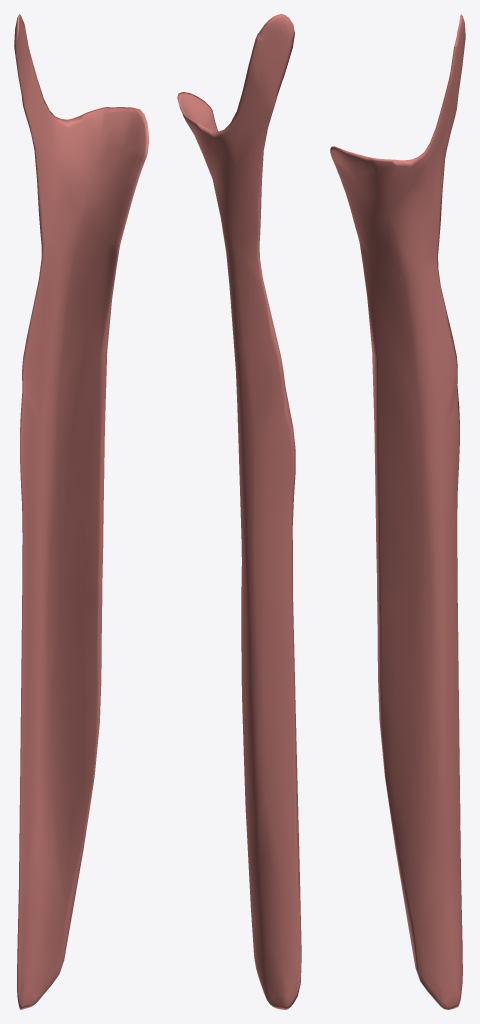
The picture shows the model from 3 angles, left to right: view 1: azimuth 90°, elevation 25°; view 2: azimuth 210°, elevation 25°; view 3: azimuth 270°, elevation 25°; orthographic projection.
Parts seen in each view (by area): view 1: ZA_ccb7b834278040c8; view 2: ZA_ccb7b834278040c8; view 3: ZA_ccb7b834278040c8.
Part boxes in pixels (x1,y1,x2,y2): ZA_ccb7b834278040c8: (14, 14, 148, 1009); ZA_ccb7b834278040c8: (177, 14, 301, 1009); ZA_ccb7b834278040c8: (330, 14, 465, 1009).
Size of the model in its own units: 0.0114 by 0.146 by 0.018.
